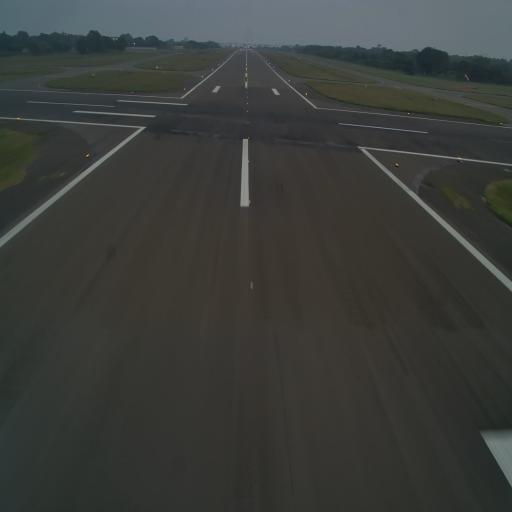on: (248, 279, 256, 294), (394, 159, 402, 171), (246, 133, 252, 142), (85, 152, 91, 160), (248, 196, 252, 208), (246, 119, 251, 127), (246, 155, 250, 164), (246, 108, 250, 114)
